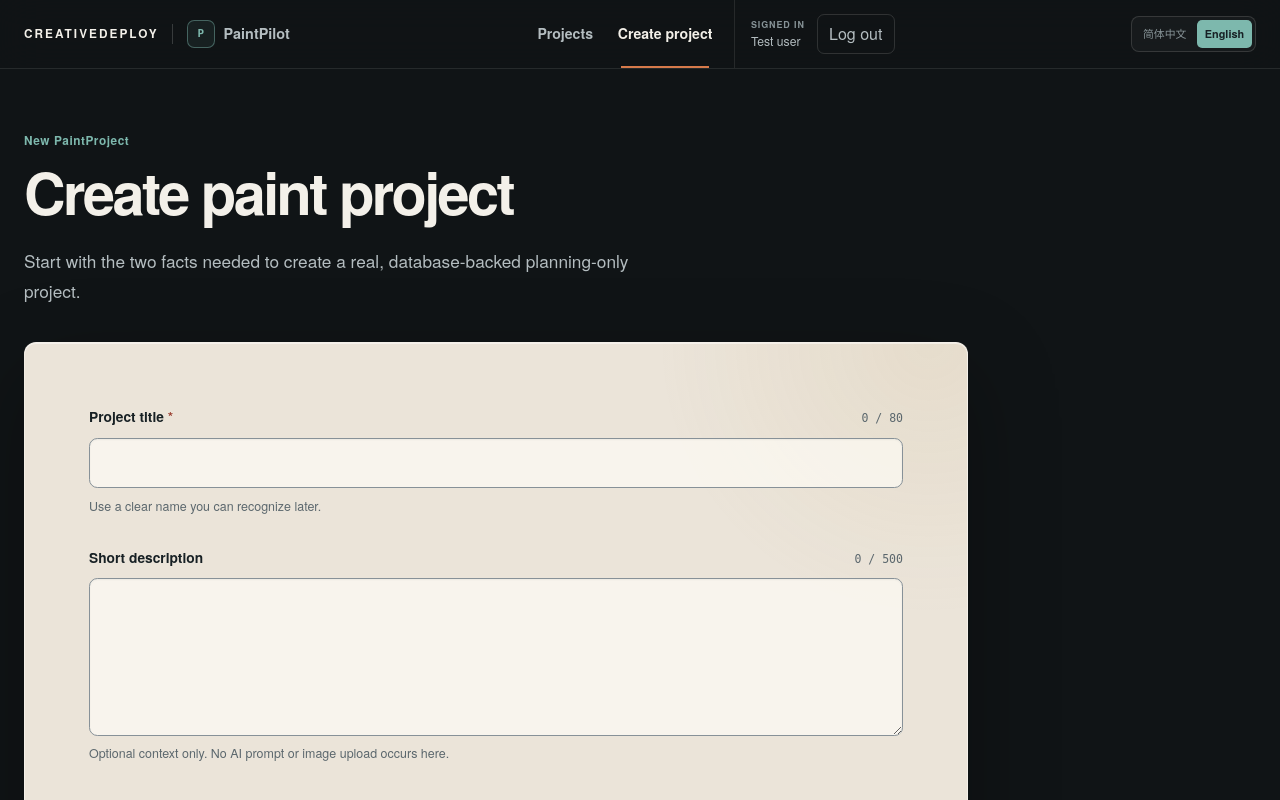
Create PaintProject workflow › normalizes values, sends one UUID idempotency key, and re-reads success
Type "  Trimmed title  " into the field labelled "Project title *" at (496, 463), box [89,438,903,488]
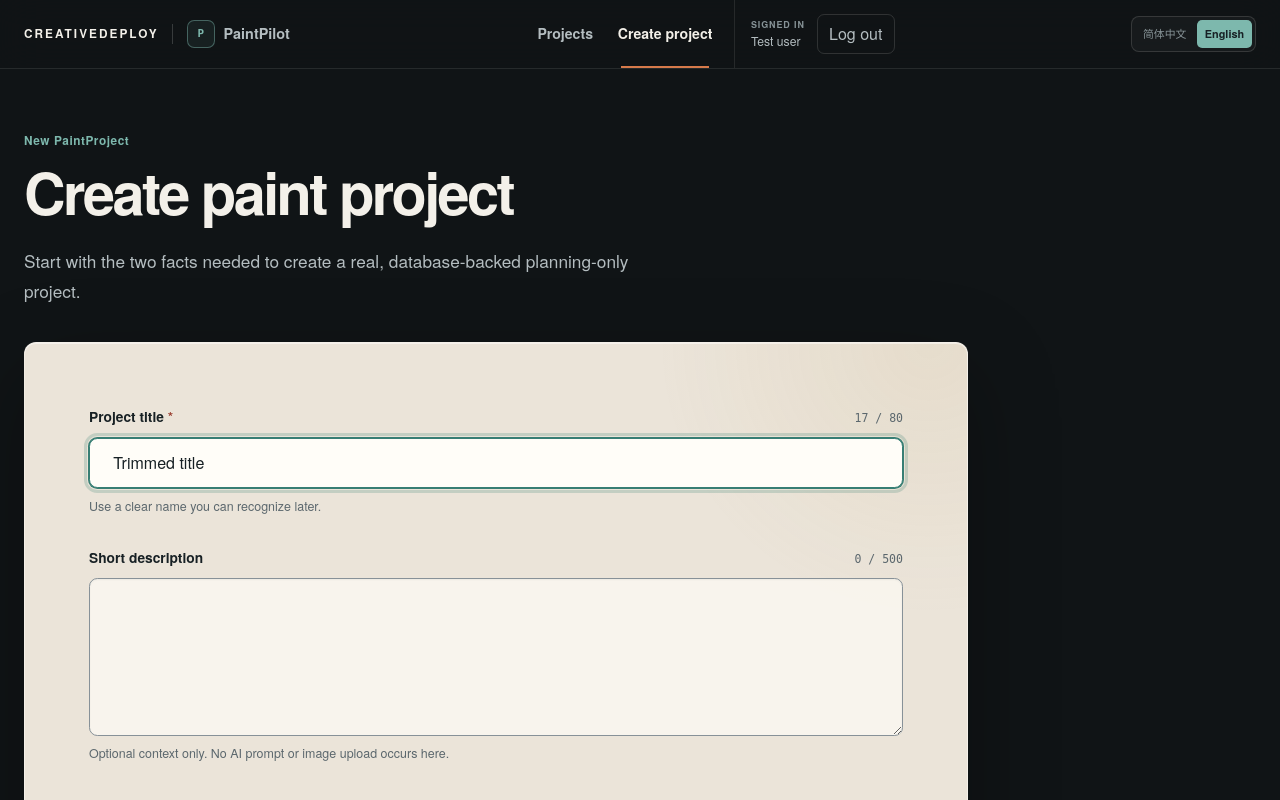
Type "  Trimmed description  " into the text box labelled "Short description" at (496, 657), box [89,578,903,736]
(page scrolled)
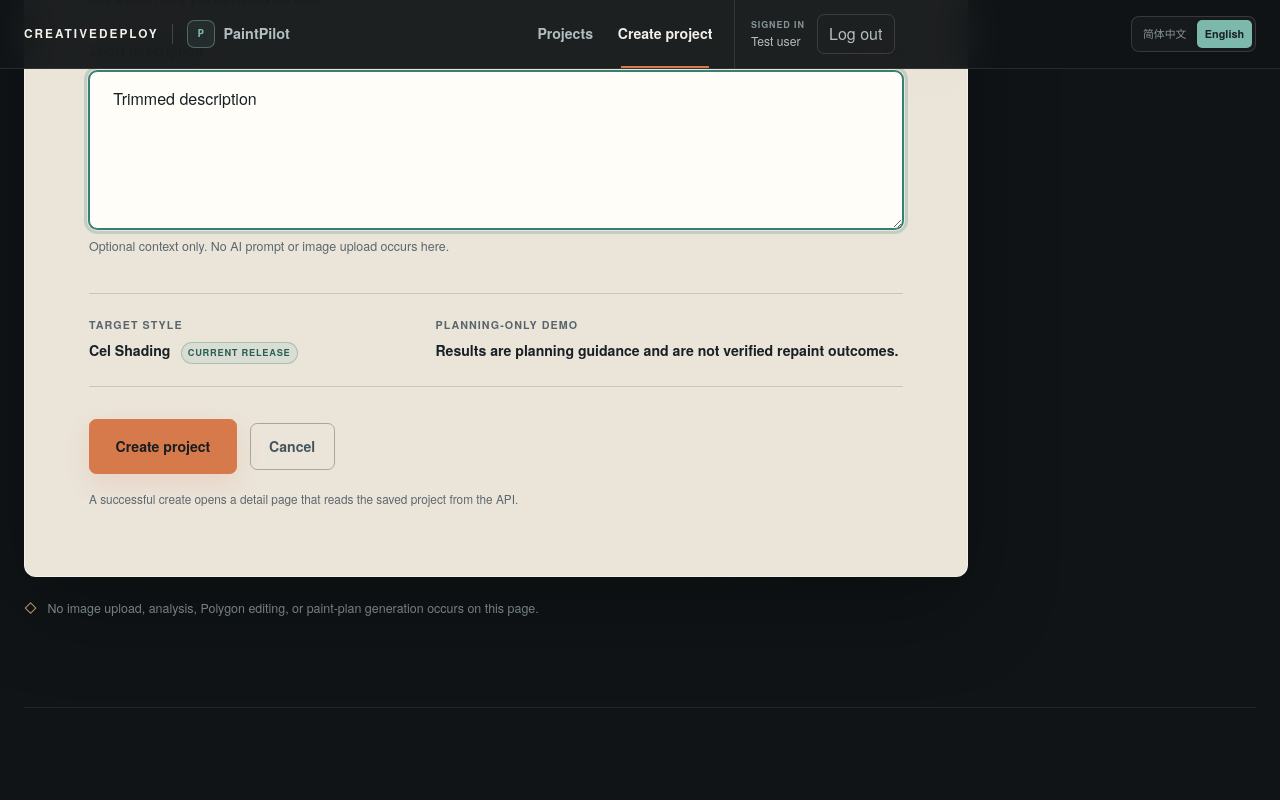
Click the button "Create project" at (163, 446), box [89,419,237,474]
(page scrolled)
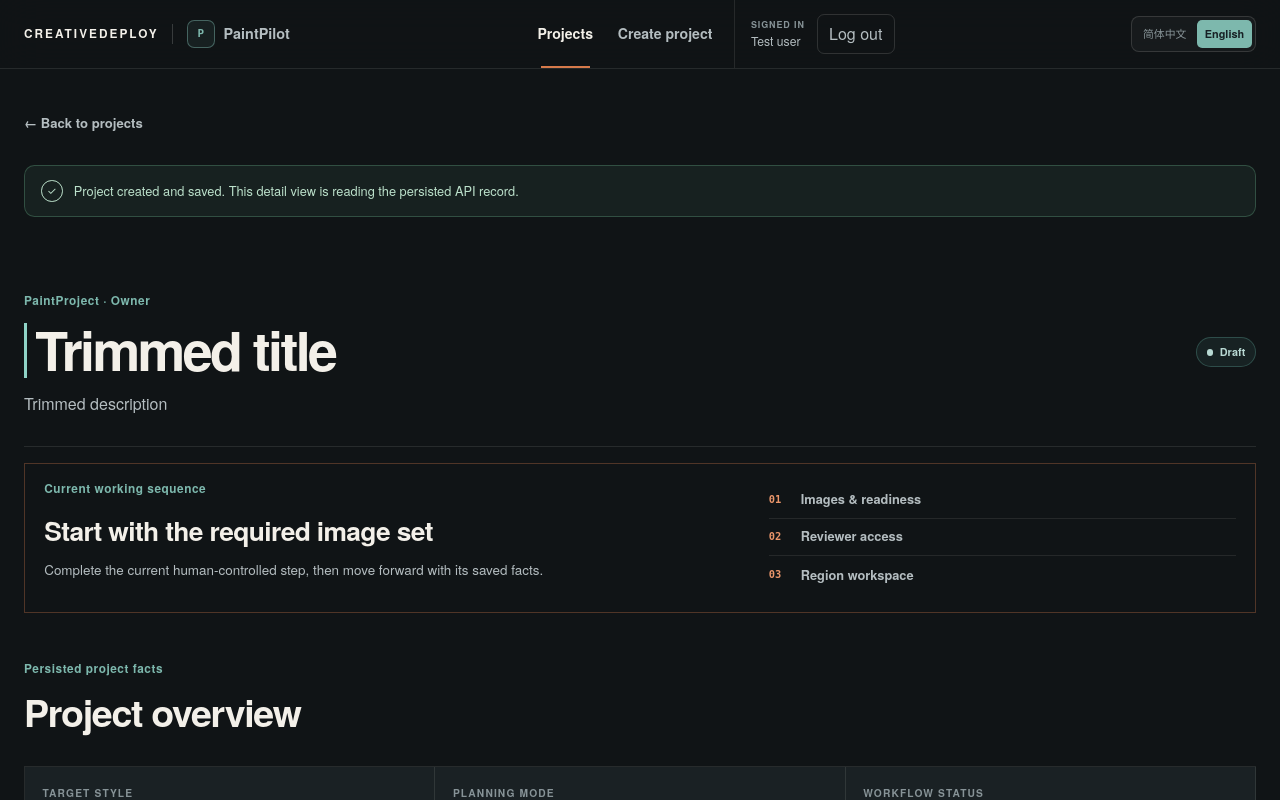
Result: the text "Project created and saved" is shown at [74,181,519,200]
